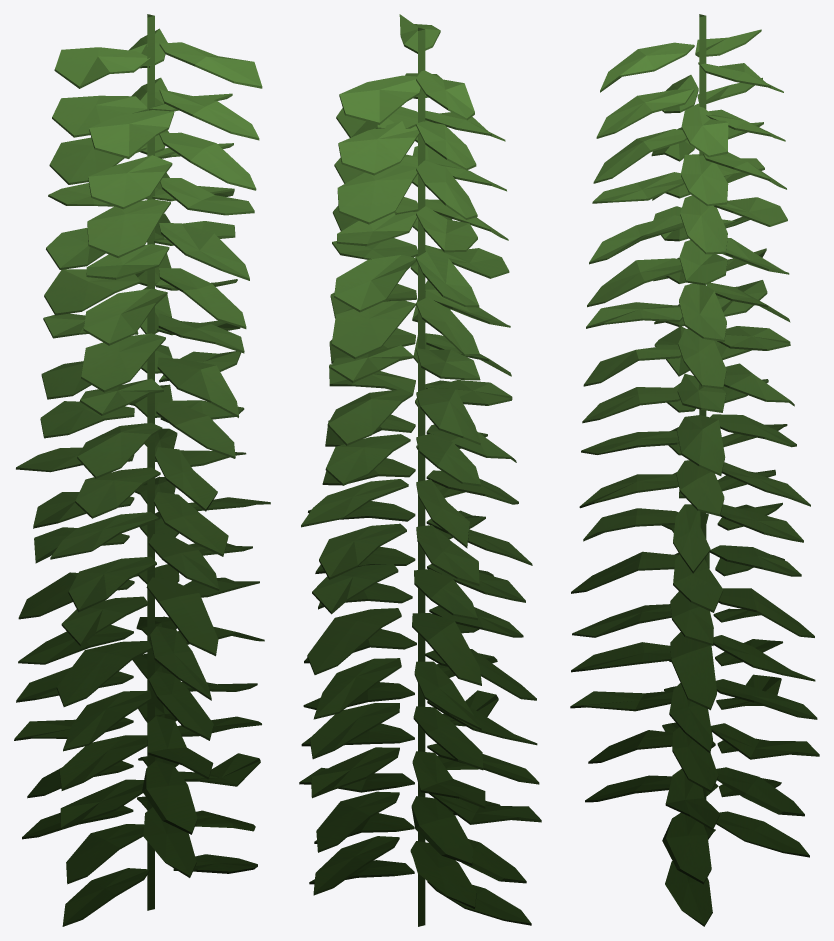
Rendered from seaweed.fbx.
The picture shows the model from 3 angles, left to right: view 1: azimuth 30°, elevation 25°; view 2: azimuth 150°, elevation 25°; view 3: azimuth 270°, elevation 25°; orthographic projection. The views are drawn at different scales.
Parts seen in each view (by area): view 1: seaweed; view 2: seaweed; view 3: seaweed.
Part boxes in pixels (x1,y1,x2,y2): seaweed: (14,14,270,926); seaweed: (299,14,541,926); seaweed: (570,14,819,926).
Size of the model in its own units: 206 by 792 by 205.
